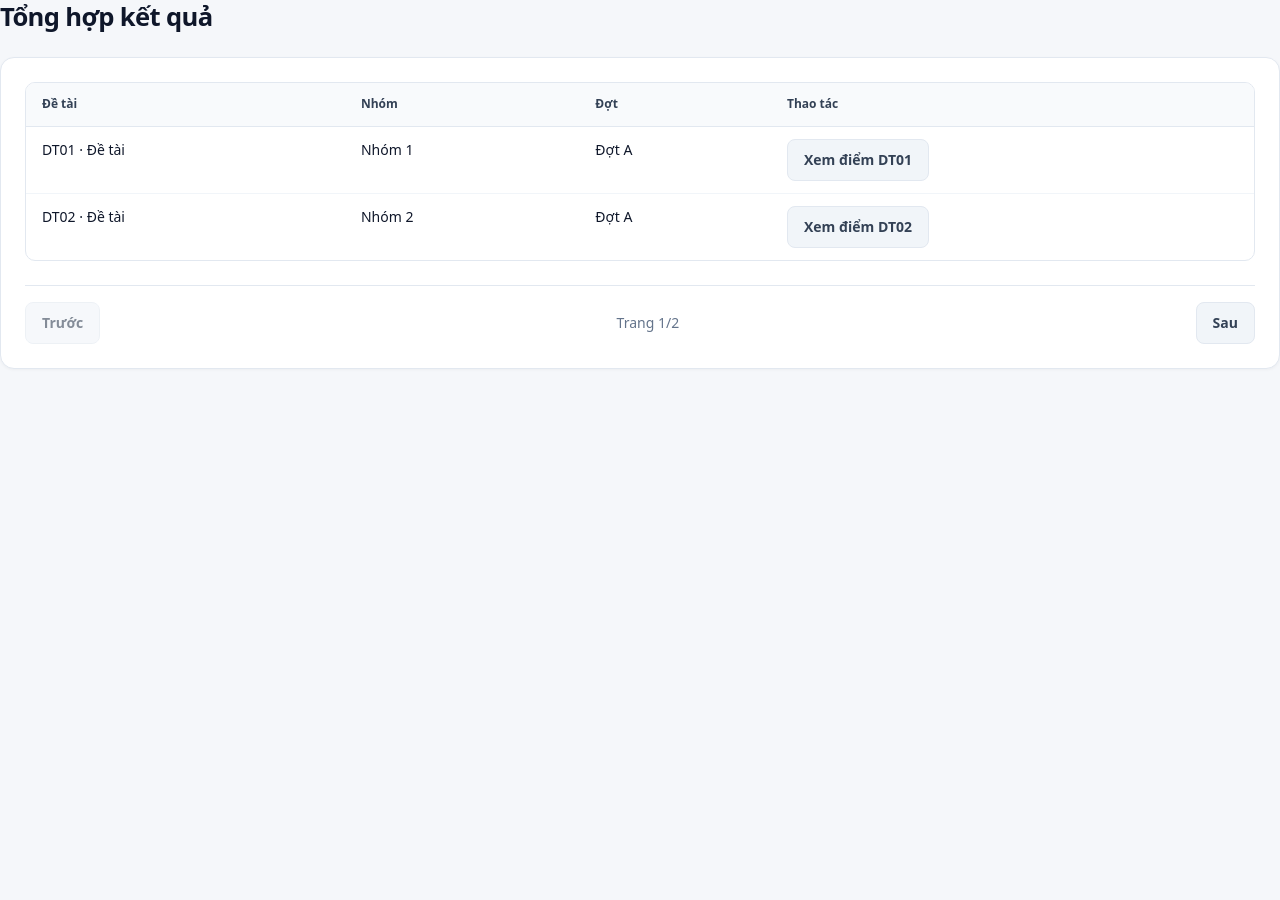
người quản lý chỉ công bố sau xác nhận và kết quả chuyển sang đã công bố
What coordinates should you click on to do the following:
click the button "Xem điểm DT01"
I would click on:
 (858, 160)
Its box is [787,139,929,181].
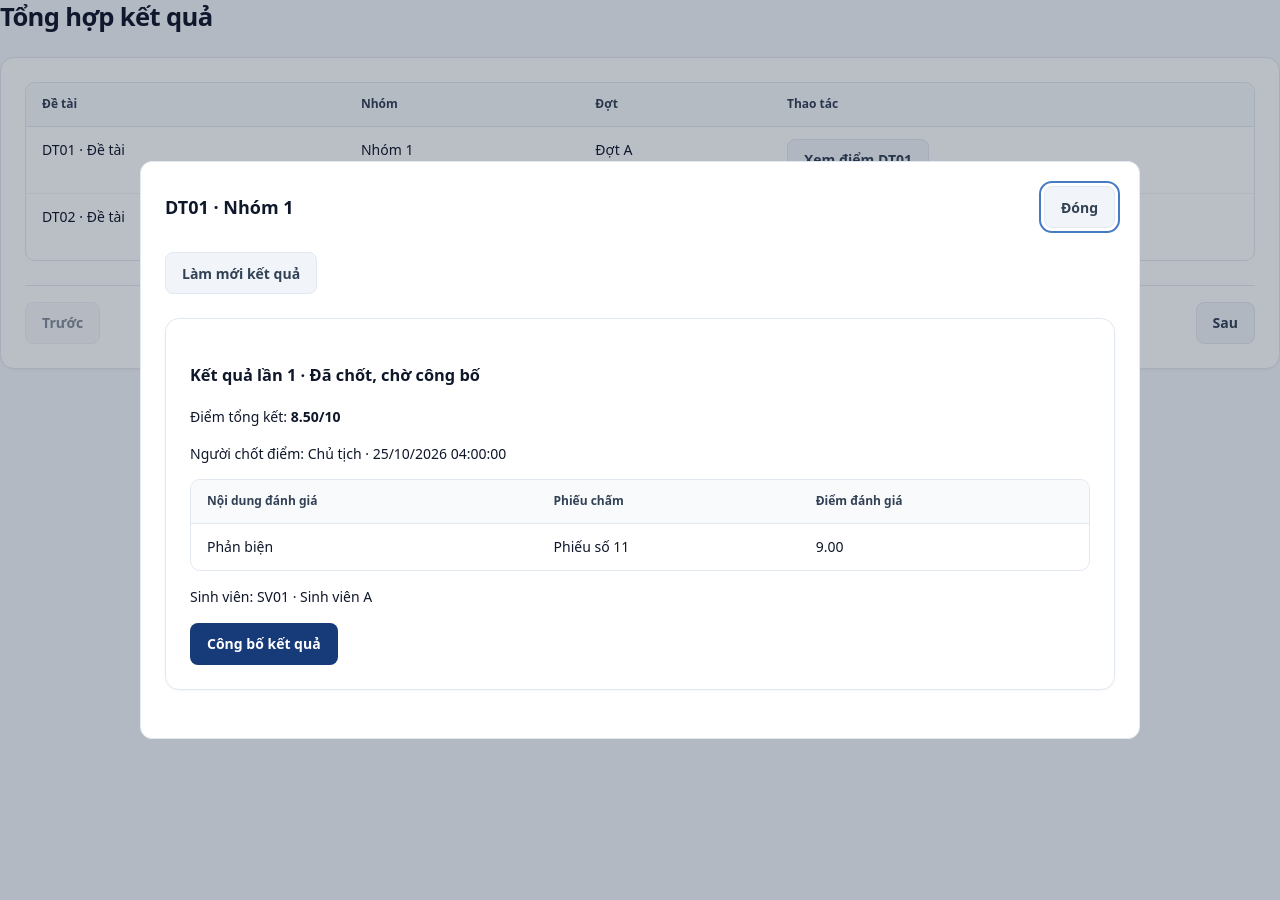
What coordinates should you click on to do the following:
click the button "Công bố kết quả"
I would click on:
 (264, 644)
Its box is [190,622,338,664].
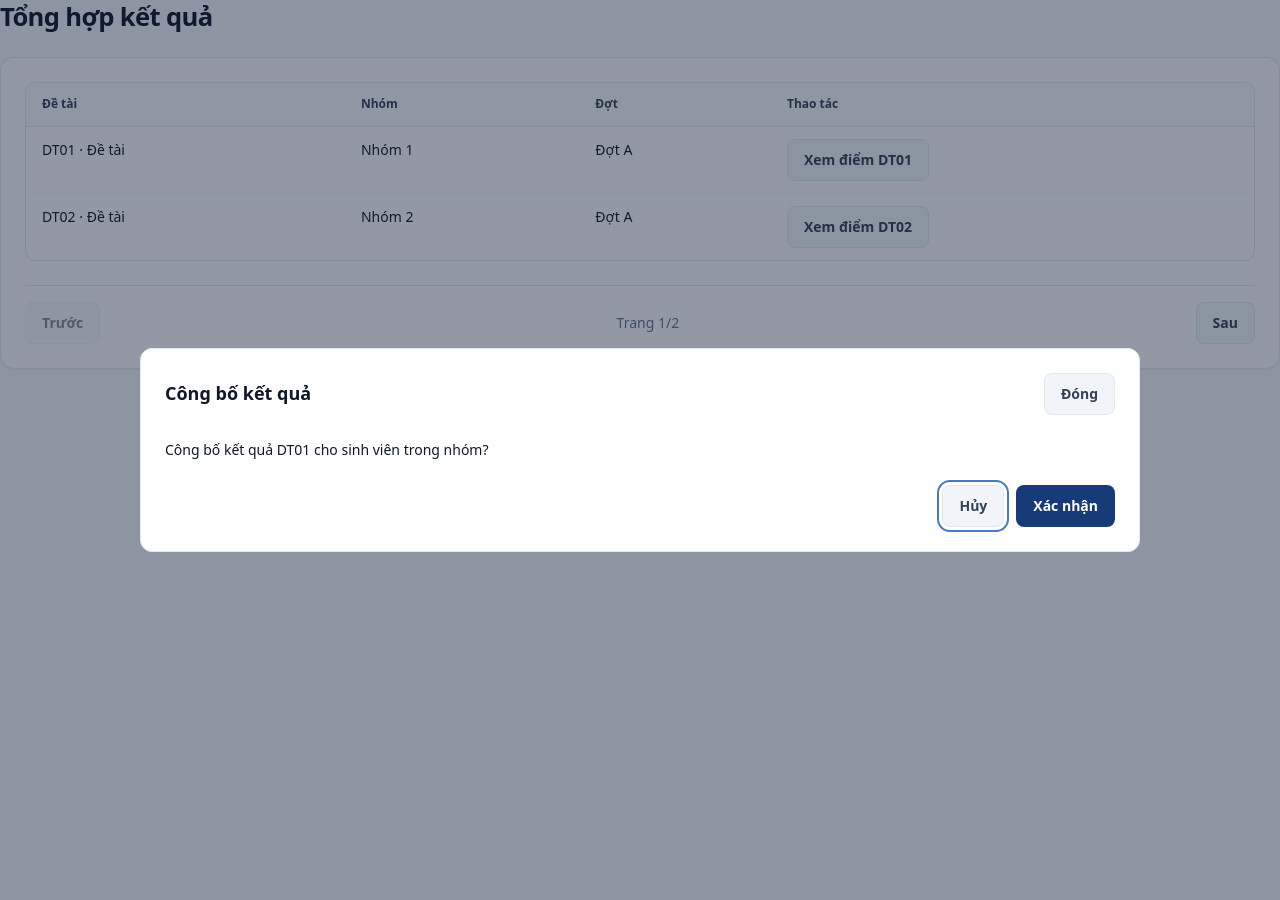
What coordinates should you click on to do the following:
click the button "Xác nhận"
I would click on:
 (1066, 506)
Its box is [1016,485,1115,527].
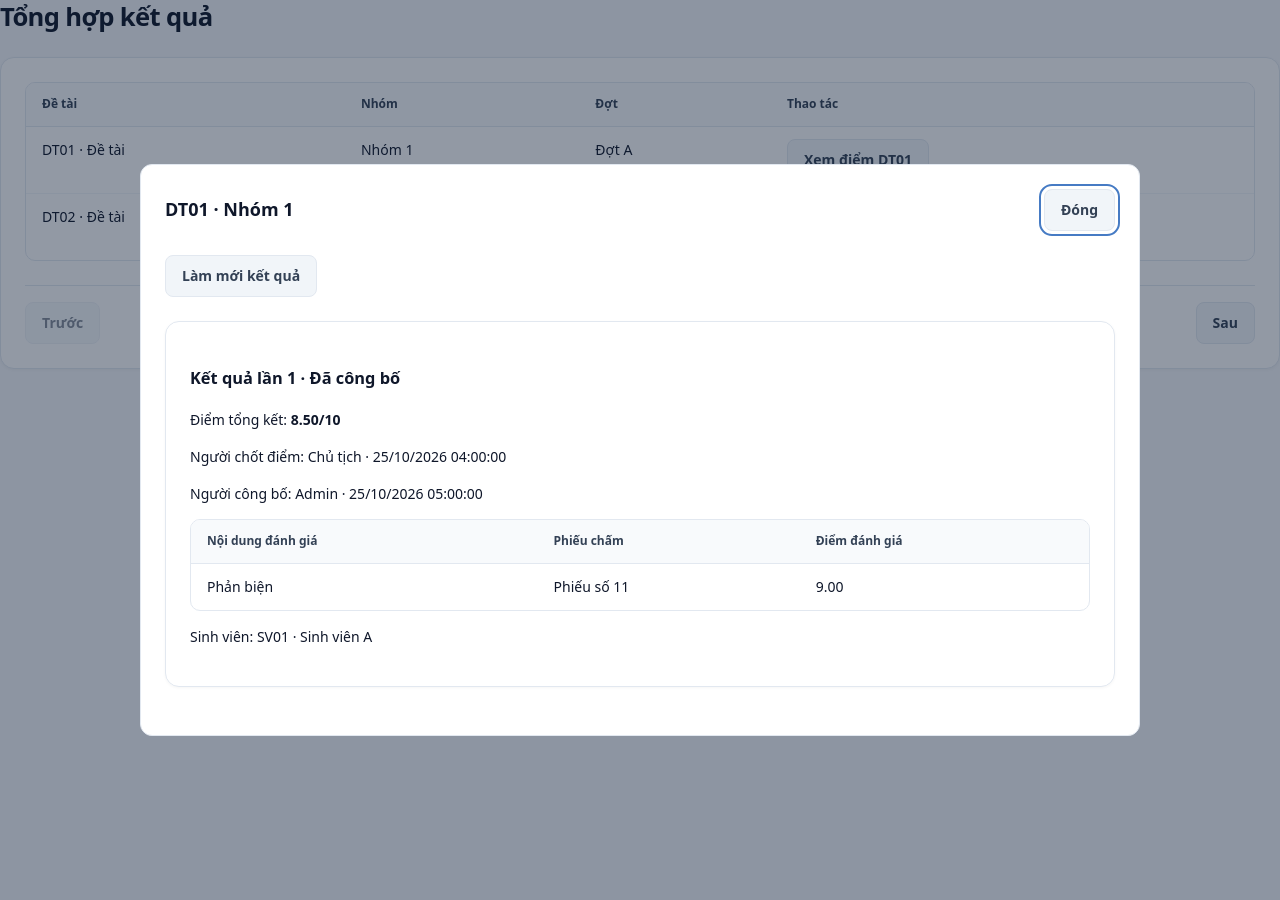
Result: the heading "Kết quả lần 1 · Đã công bố" is shown at [190,367,400,389]
Result: the heading "Công bố kết quả" is gone
